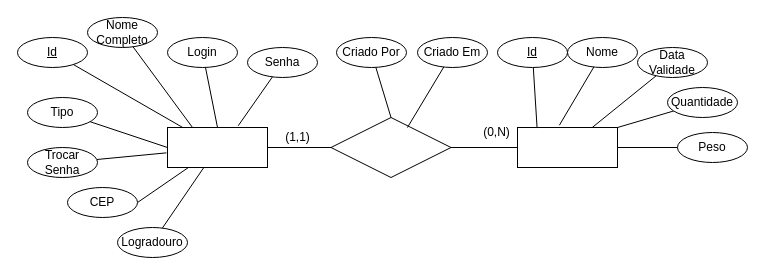
Image size: 765x275. Some labels were removed from this diagram. The shapes that lost their labels are listed below. From the top down, each one's centre as x and y in pixels, then its label:
At point (217, 147): "Usuario".
At point (390, 147): "Cadastra".
At point (567, 147): "Medicamento".
